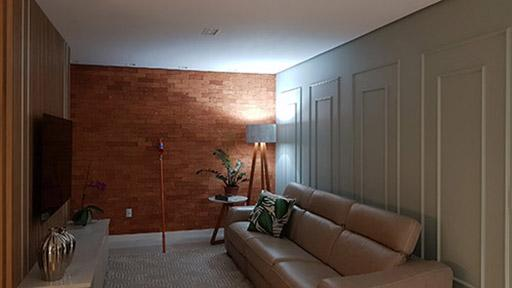Vara_Manobra: (158, 153, 167, 254)
